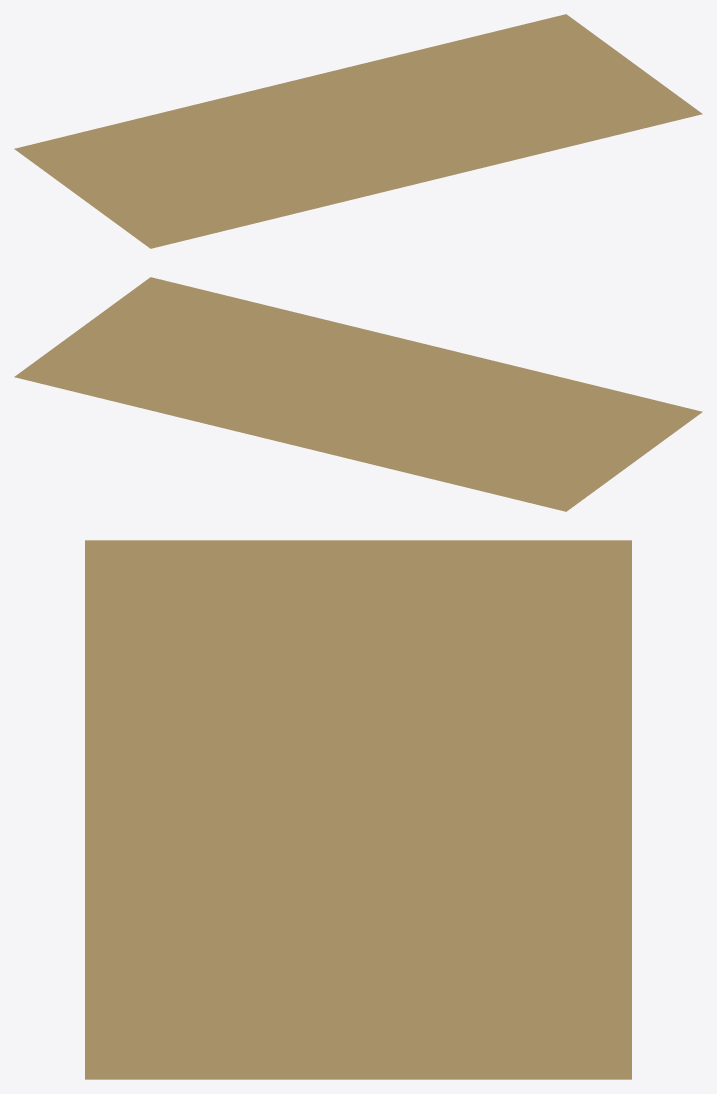
Rendered from eastlink.glb.
3 renders of one model, top to bottom at view 1: azimuth 30°, elevation 25°; view 2: azimuth 150°, elevation 25°; view 3: azimuth 270°, elevation 25°, orthographic. The views are drawn at different scales.
Visible parts, largest first — view 1: eastlink; view 2: eastlink; view 3: eastlink.
Part boxes in pixels (x1,y1,x2,y2): eastlink: (14, 14, 702, 248); eastlink: (14, 277, 702, 511); eastlink: (85, 540, 631, 1079).
Bounding box in the file's own units: 14 × 0 × 6.
